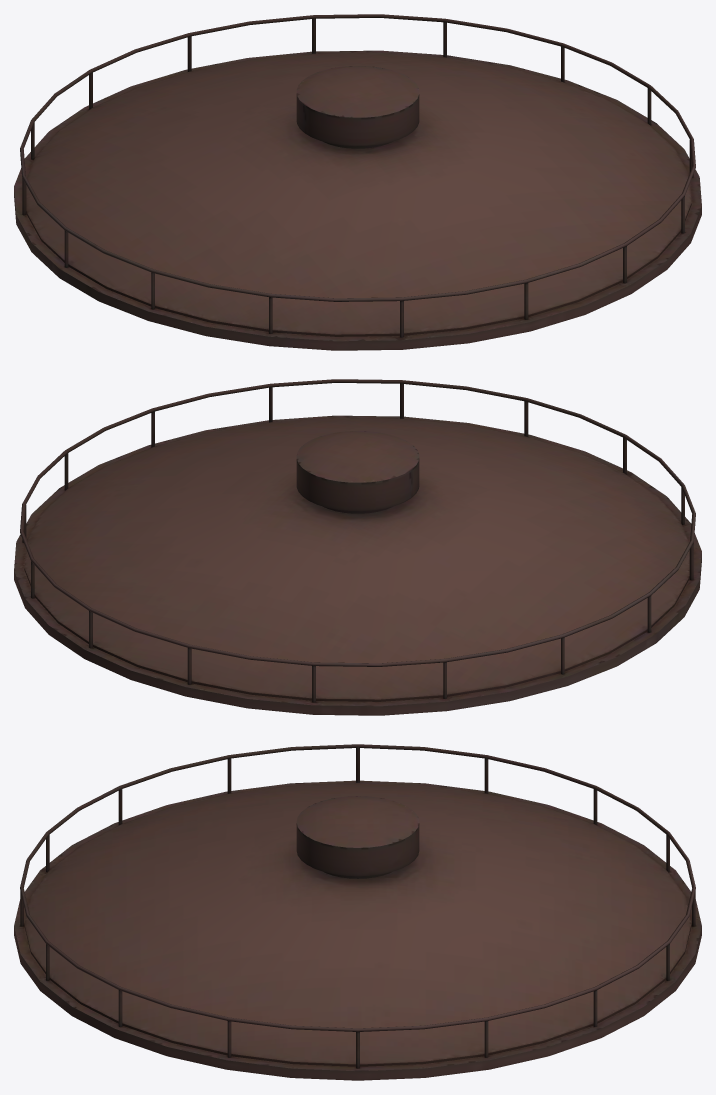
The picture shows the model from 3 angles, top to bottom: view 1: azimuth 30°, elevation 25°; view 2: azimuth 150°, elevation 25°; view 3: azimuth 270°, elevation 25°; orthographic projection.
Visible parts, largest first — view 1: body0_model0_lod0_mesh0; view 2: body0_model0_lod0_mesh0; view 3: body0_model0_lod0_mesh0.
Boxes of the visible parts, x1,y1,x2,y2 form: body0_model0_lod0_mesh0: (14, 14, 701, 350); body0_model0_lod0_mesh0: (14, 379, 701, 715); body0_model0_lod0_mesh0: (14, 744, 701, 1080).
Bounding box in the file's own units: 528 × 99.97 × 528.
Materials: 1 (1 with a texture image).
